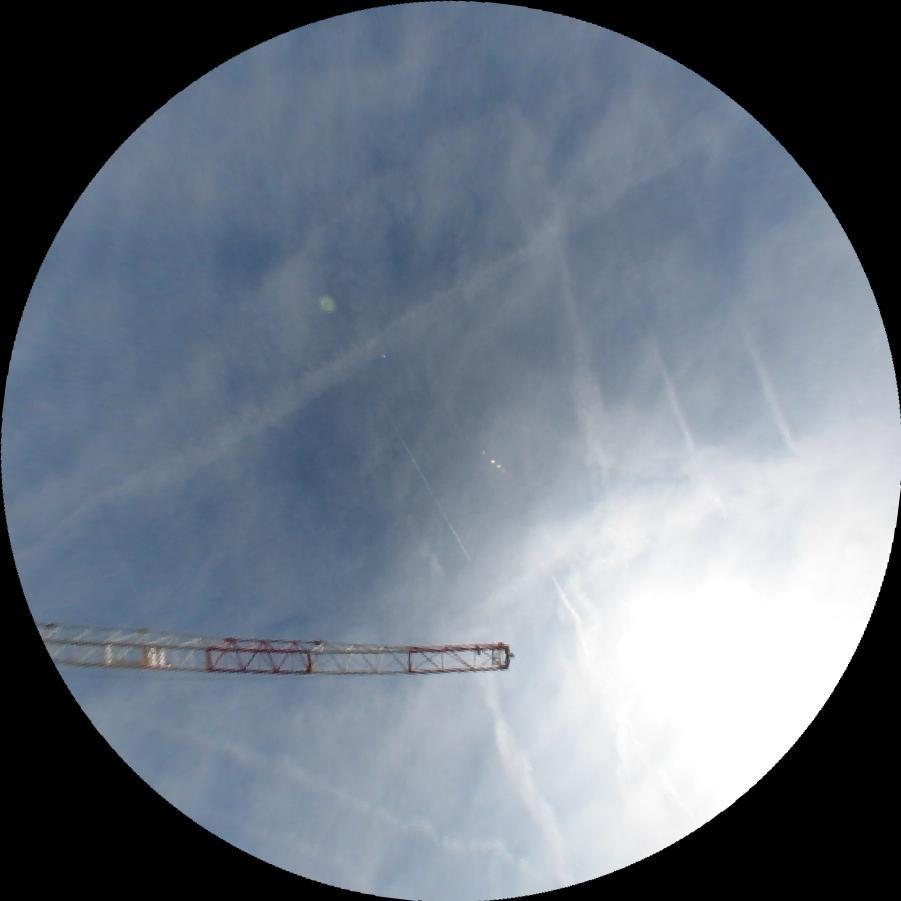contrail young: (378, 398, 471, 563)
